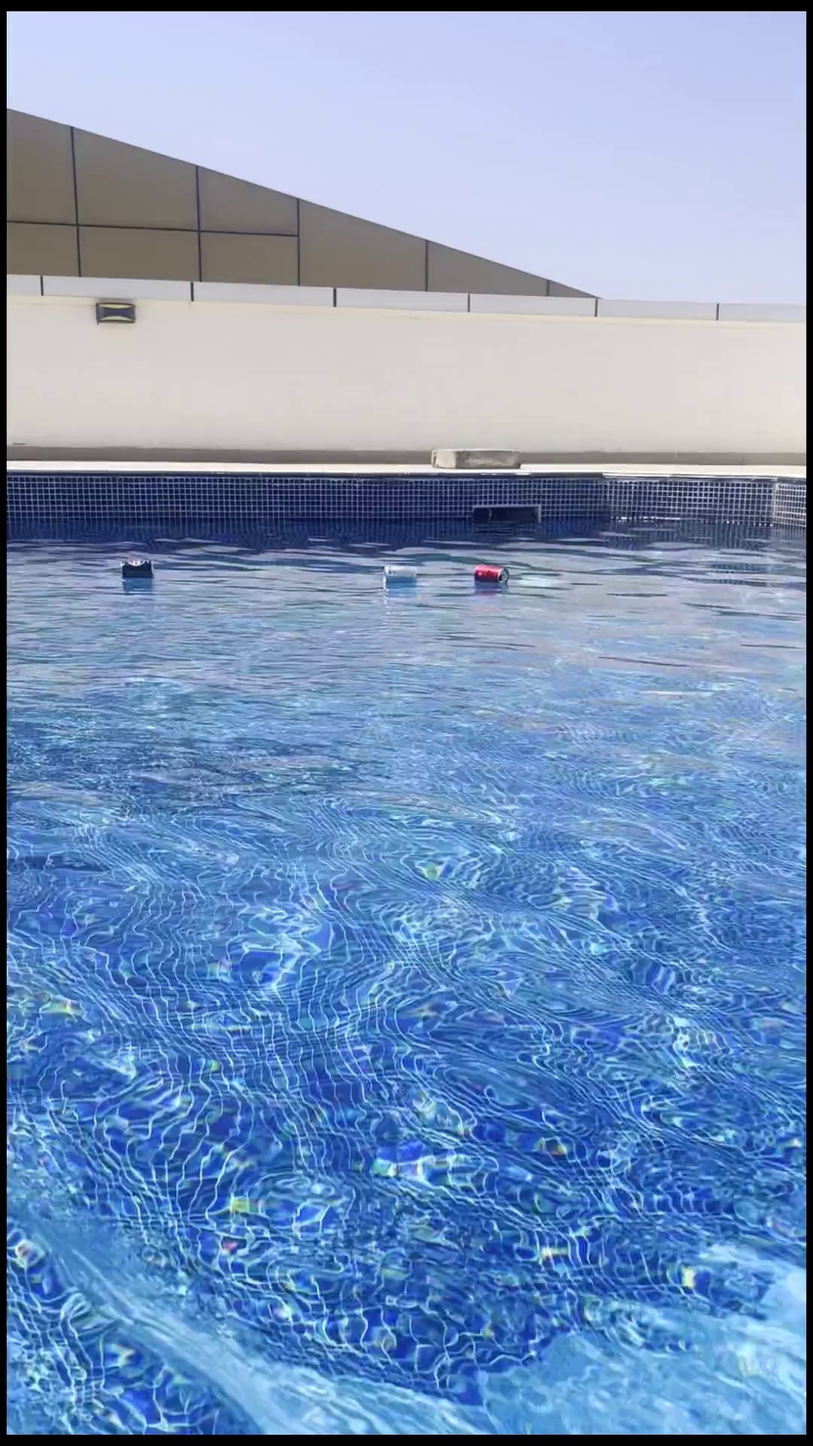debris: (470, 551, 510, 606), (116, 543, 154, 594), (379, 551, 419, 599)
